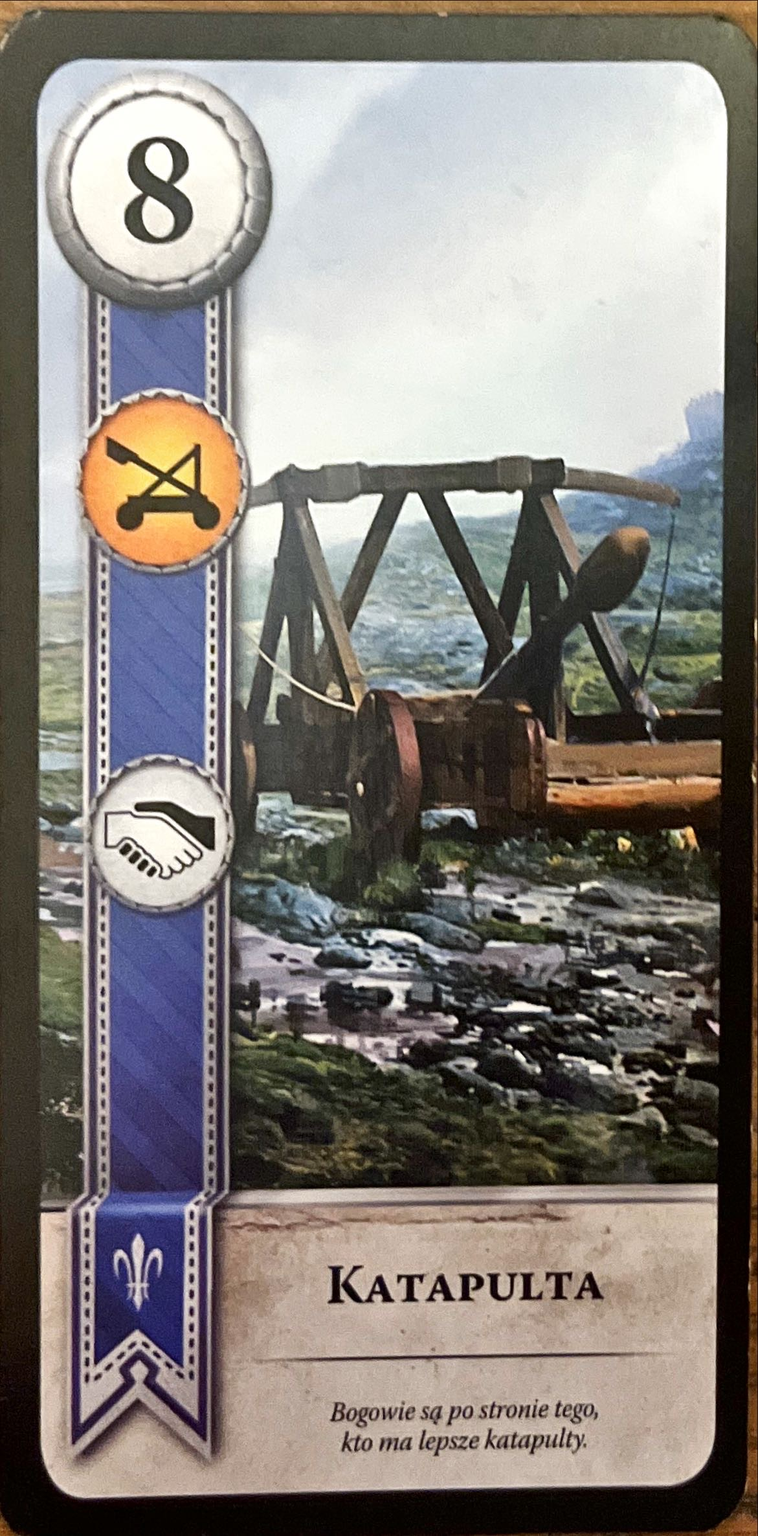8: (45, 71, 274, 312)
katapulta: (79, 387, 246, 573)
wiez: (84, 755, 235, 914)
